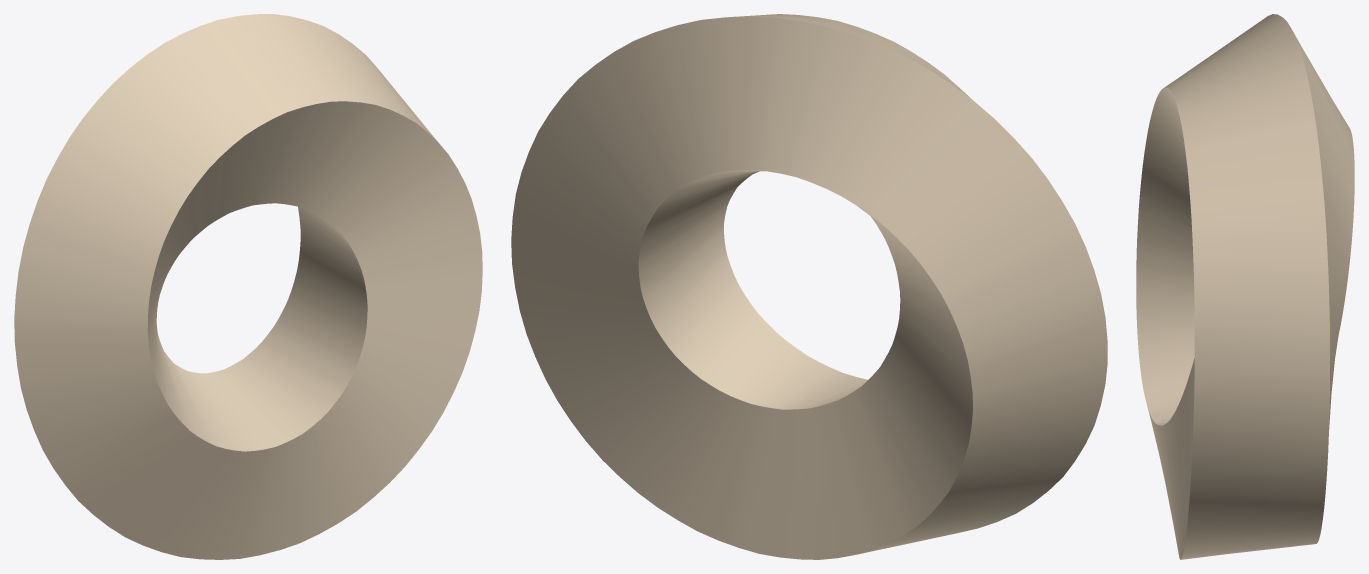
The picture shows the model from 3 angles, left to right: view 1: azimuth 30°, elevation 25°; view 2: azimuth 150°, elevation 25°; view 3: azimuth 270°, elevation 25°; orthographic projection. The views are drawn at different scales.
Visible parts, largest first — view 1: default001fsFF; view 2: default001fsFF; view 3: default001fsFF.
Boxes of the visible parts, x1,y1,x2,y2 form: default001fsFF: (14,14,482,559); default001fsFF: (511,14,1107,559); default001fsFF: (1136,14,1354,559).
Size of the model in its own units: 90002 by 90772 by 36469.
